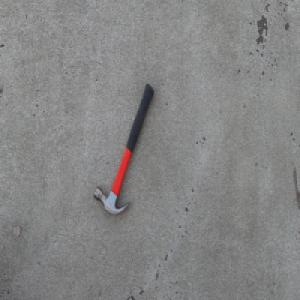Hammer: (93, 82, 154, 216)
